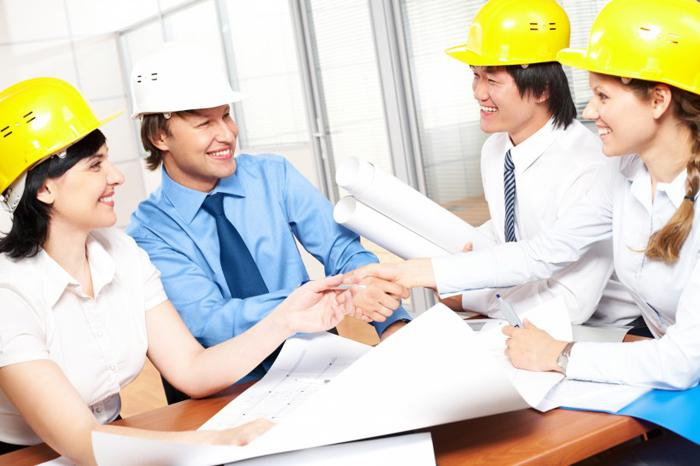helmet: (555, 0, 699, 161), (0, 71, 128, 236), (119, 39, 253, 184), (445, 0, 578, 140)
